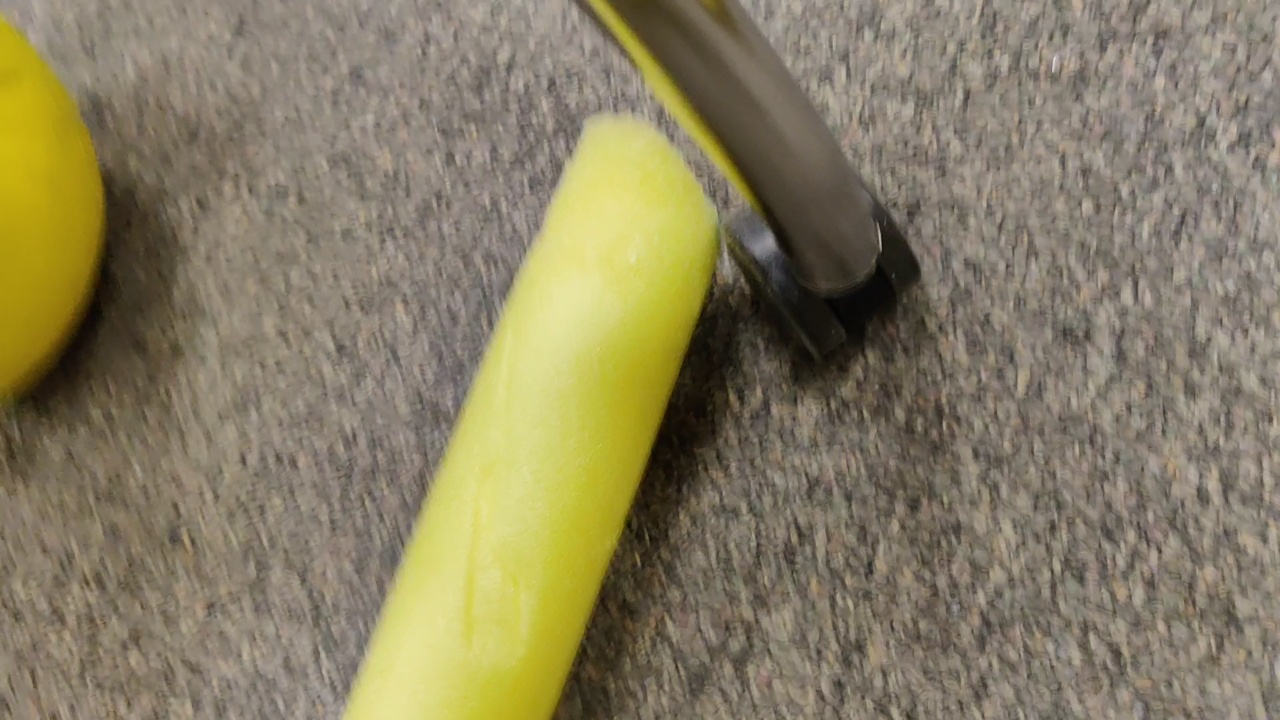Ball: (1, 8, 112, 384)
